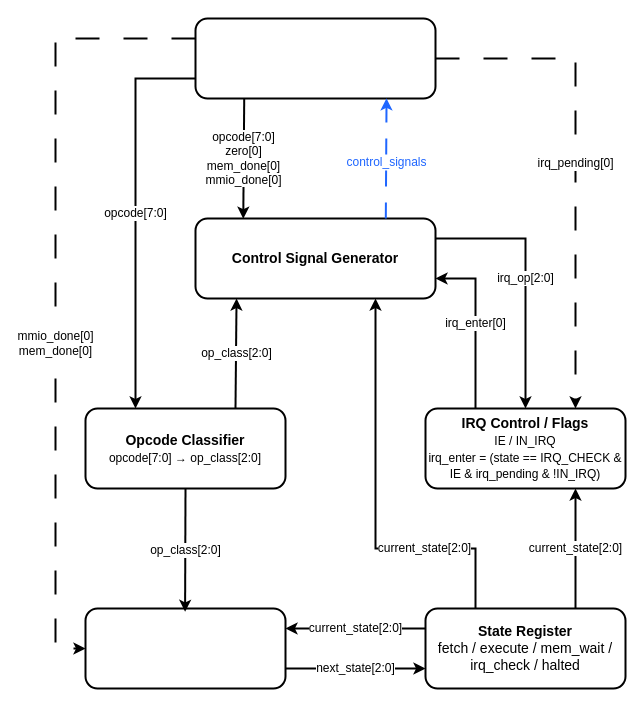
The diagram is 643 pixels wide and 706 high, and some of its shapes have lost their labels. Each missing label, with the centre of its shape:
"DataPath" goes at (x=315, y=58).
"Next-State Logic" goes at (x=185, y=648).
